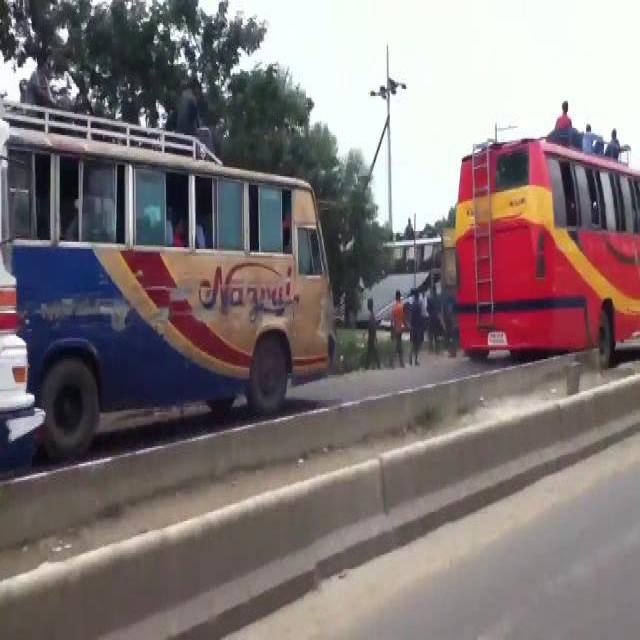bus: (4, 94, 340, 422), (451, 132, 639, 374)
